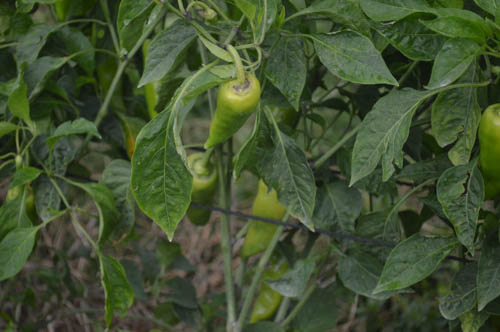ChiliPepper: (198, 65, 264, 156), (461, 80, 500, 205), (241, 168, 290, 262), (170, 147, 220, 230), (131, 39, 177, 121), (242, 264, 289, 322)
